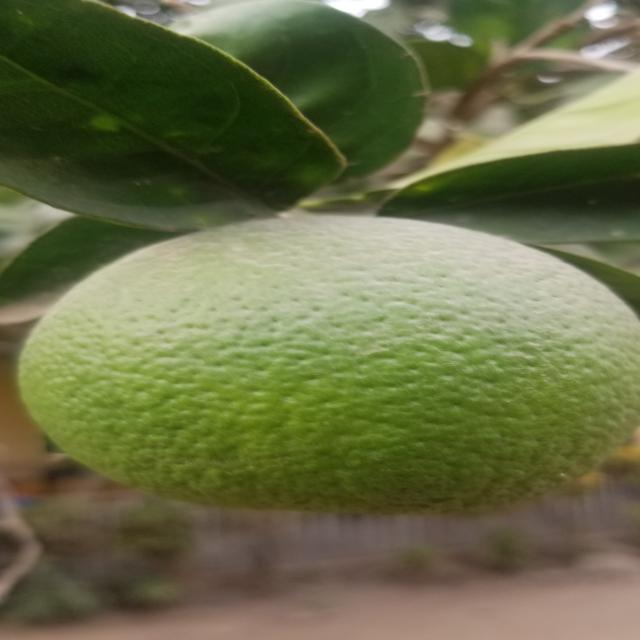Unripe: (23, 222, 637, 514)
